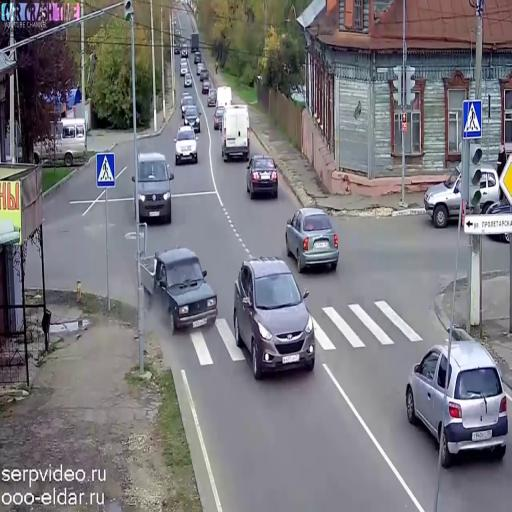小汽车: (401, 340, 507, 460), (232, 259, 316, 375), (134, 249, 218, 332), (422, 164, 503, 224), (285, 207, 339, 273), (134, 152, 174, 224), (34, 115, 90, 164), (222, 104, 252, 164), (246, 155, 280, 203), (174, 128, 200, 164), (182, 104, 202, 134), (205, 86, 220, 108), (189, 31, 201, 55), (181, 71, 193, 90), (198, 64, 210, 83), (179, 43, 188, 58)
